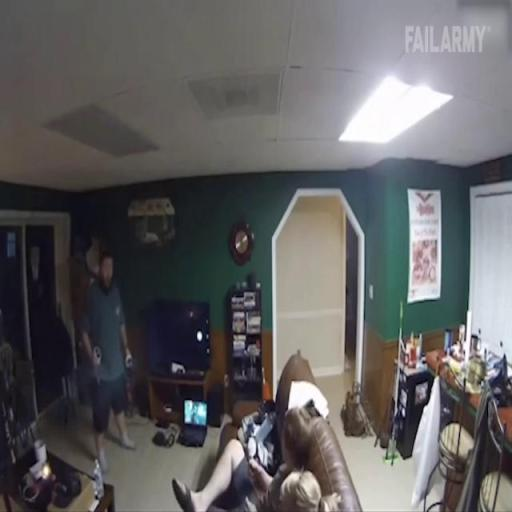Fall: (168, 400, 315, 511)
